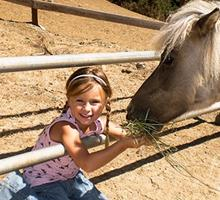person: (1, 68, 160, 200)
